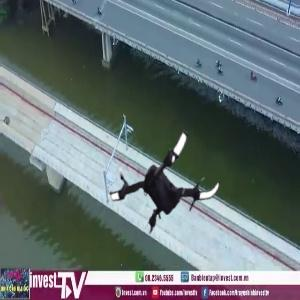drone: (100, 126, 223, 249)
